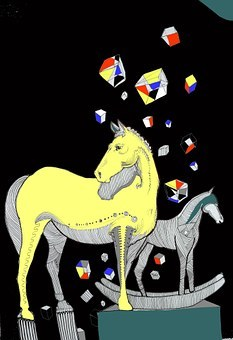horse: (7, 119, 157, 311), (130, 184, 225, 296)
